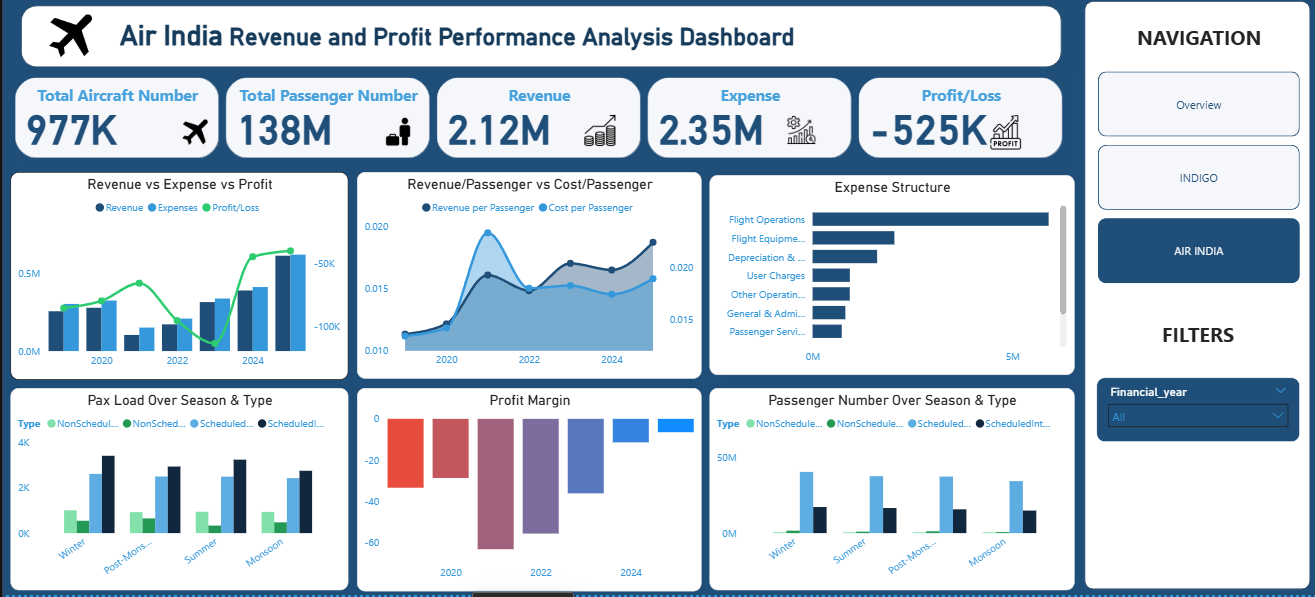

The page's visual inventory and layout, read from the dashboard file:
{"tool":"powerbi","page":{"name":"AIR INDIA","canvas":[1580,720],"ordinal":2},"visuals":[{"type":"shape","box":[1297,8.1,270.8,705.9],"z":0,"group":"g1"},{"type":"cardVisual","fields":{"Data":["Sum(Yearly_traffic&finance.Total_Aircraft_Number)","Sum(Yearly_traffic&finance.Total_Passenger_Number)","Sum(Yearly_traffic&finance.TOTAL_OPERATING_REVENUEM)","Sum(Yearly_traffic&finance.TOTAL_OPERATING_EXPENSESM)","Sum(Yearly_traffic&finance.PROFIT/LOSS__AFTER_TAX)"]},"box":[9.4,94.3,1275.4,107.7],"z":0},{"type":"textbox","box":[1330.4,29.9,206.6,43.6],"z":1000,"group":"g1"},{"type":"areaChart","title":"Revenue/Passenger vs Cost/Passenger","fields":{"Category":["Yearly_traffic&finance.Financial_year"],"Y":["Sum(Yearly_traffic&finance.Revenue_per_Passenger)"],"Y2":["Sum(Yearly_traffic&finance.Cost_per_Passenger)"]},"box":[424.2,212.8,413.5,247.8],"z":1000},{"type":"pageNavigator","box":[1313.7,92.8,242.6,256.7],"z":2000,"group":"g1"},{"type":"clusteredColumnChart","title":"Pax Load Over Season & Type","fields":{"Category":["TRAFFIC DATA.season"],"Y":["Sum(TRAFFIC DATA.Pax Load factor)"],"Series":["TRAFFIC DATA.Type"]},"box":[9.4,471.4,405.4,242.4],"z":2000},{"type":"barChart","title":"Expense Structure","fields":{"Category":["finance.OPERATING FACTORS"],"Y":["Sum(finance.OPERATING FACTORS VALUES)"]},"box":[847.1,216.8,437.7,239.7],"z":3000},{"type":"textbox","box":[1329.1,386.7,207.9,43.6],"z":3000,"group":"g1"},{"type":"slicer","fields":{"Values":["year_table.Financial_year"]},"box":[1311.1,459.9,243.9,77],"z":4000,"group":"g1"},{"type":"columnChart","title":"Profit Margin","fields":{"Category":["Yearly_traffic&finance.Financial_year"],"Y":["Sum(Yearly_traffic&finance.Profit_Margin_percent)"]},"box":[424.2,471.4,413.5,243.8],"z":4000},{"type":"image","box":[207.4,144.6,46.4,40.9],"z":5000},{"type":"image","box":[443.5,137.8,62.8,50.5],"z":6000},{"type":"image","box":[687.8,139.2,57.3,47.8],"z":7000},{"type":"image","box":[922.5,137.8,69.6,46.4],"z":8000},{"type":"shape","box":[21.5,12.1,1248.5,74.1],"z":9000},{"type":"textbox","box":[134.7,24.2,917.2,51.2],"z":10000},{"type":"image","box":[1176.3,136.5,51.9,55.9],"z":12000},{"type":"image","box":[47.3,18,68.7,61.9],"z":15000},{"type":"lineClusteredColumnComboChart","title":"Revenue vs Expense vs Profit","fields":{"Category":["Yearly_traffic&finance.Financial_year"],"Y":["Sum(Yearly_traffic&finance.TOTAL_OPERATING_REVENUEM)","Sum(Yearly_traffic&finance.TOTAL_OPERATING_EXPENSESM)"],"Y2":["Sum(Yearly_traffic&finance.PROFIT/LOSS__AFTER_TAX)"]},"box":[9.4,211.4,405.4,249.2],"z":16000},{"type":"clusteredColumnChart","title":"Passenger Number Over Season & Type","fields":{"Category":["TRAFFIC DATA.season"],"Series":["TRAFFIC DATA.Type"],"Y":["Sum(TRAFFIC DATA.Passenger Number)"]},"box":[847.1,471.4,437.7,242.4],"z":17000},{"type":"group","id":"g1","title":"Group 2","box":[1297,8.1,270.8,705.9],"z":17007}]}

Visuals, with their boxes in screenshot pixels (x1, y1, x2, y2), scaled from the page's 1580x720 canvas onto the 1315x597 screenshot:
shape: box(1079, 7, 1305, 592)
cardVisual - Sum(Yearly_traffic&finance.Total_Aircraft_Number) x Sum(Yearly_traffic&finance.Total_Passenger_Number): box(8, 78, 1069, 167)
textbox: box(1107, 25, 1279, 61)
"Revenue/Passenger vs Cost/Passenger" areaChart: box(353, 176, 697, 382)
pageNavigator: box(1093, 77, 1295, 290)
"Pax Load Over Season & Type" clusteredColumnChart: box(8, 391, 345, 592)
"Expense Structure" barChart: box(705, 180, 1069, 379)
textbox: box(1106, 321, 1279, 357)
slicer - year_table.Financial_year: box(1091, 381, 1294, 445)
"Profit Margin" columnChart: box(353, 391, 697, 593)
image: box(173, 120, 211, 154)
image: box(369, 114, 421, 156)
image: box(572, 115, 620, 155)
image: box(768, 114, 826, 153)
shape: box(18, 10, 1057, 71)
textbox: box(112, 20, 875, 63)
image: box(979, 113, 1022, 160)
image: box(39, 15, 97, 66)
"Revenue vs Expense vs Profit" lineClusteredColumnComboChart: box(8, 175, 345, 382)
"Passenger Number Over Season & Type" clusteredColumnChart: box(705, 391, 1069, 592)
"Group 2" group: box(1079, 7, 1305, 592)
